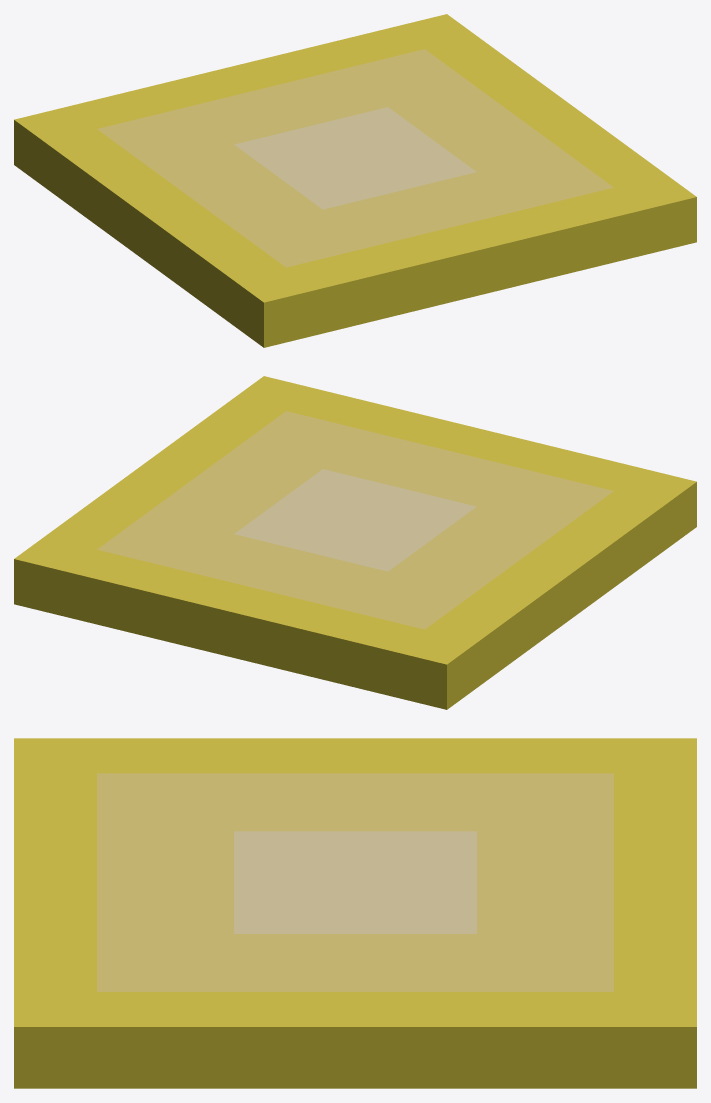
Rendered from TileYellow.fbx.
The picture shows the model from 3 angles, top to bottom: view 1: azimuth 30°, elevation 25°; view 2: azimuth 150°, elevation 25°; view 3: azimuth 270°, elevation 25°; orthographic projection. The views are drawn at different scales.
Visible parts, largest first — view 1: Cube; view 2: Cube; view 3: Cube.
Boxes of the visible parts, x1,y1,x2,y2 form: Cube: [14, 14, 696, 347]; Cube: [14, 376, 696, 709]; Cube: [14, 738, 696, 1088].
Size of the model in its own units: 100 by 10 by 100.
